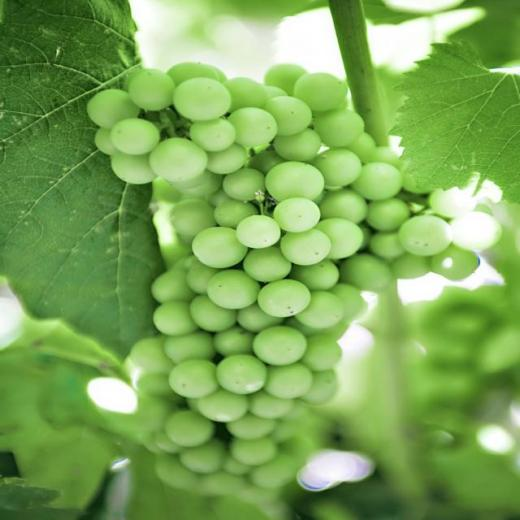Orange: (83, 62, 484, 507)
